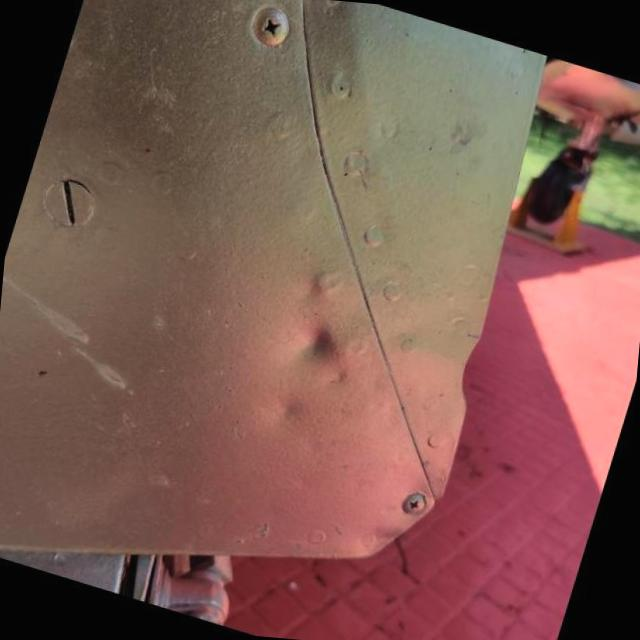dent: (285, 310, 366, 388), (436, 334, 484, 417), (262, 388, 316, 431)
